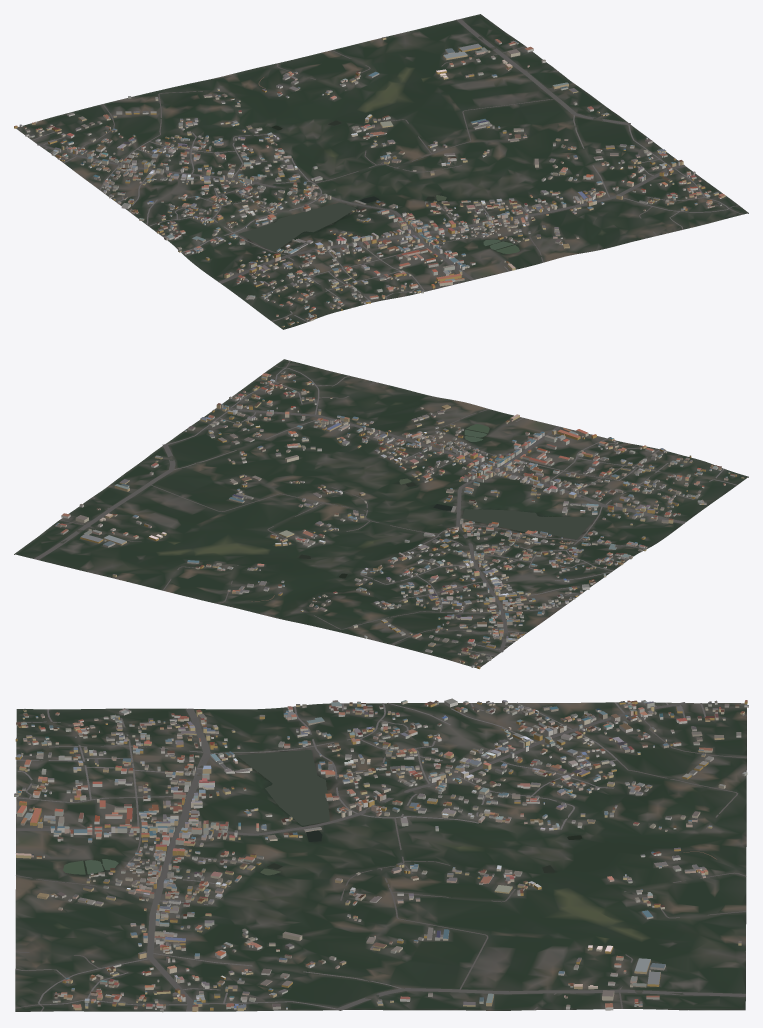
3 views of the same model, one above another, from view 1: azimuth 30°, elevation 25°; view 2: azimuth 150°, elevation 25°; view 3: azimuth 270°, elevation 25° (orthographic). The views are drawn at different scales.
Parts seen in each view (by area): view 1: ground, buildings, roads, water; view 2: ground, buildings, roads, water; view 3: ground, buildings, roads, water.
Part boxes in pixels (bbox=[...]): ground: bbox=[16, 14, 748, 329]; buildings: bbox=[14, 37, 725, 327]; roads: bbox=[32, 19, 742, 321]; water: bbox=[239, 121, 519, 253]; ground: bbox=[14, 359, 748, 668]; buildings: bbox=[55, 371, 744, 669]; roads: bbox=[34, 360, 736, 656]; water: bbox=[299, 424, 595, 578]; ground: bbox=[15, 702, 746, 1011]; buildings: bbox=[14, 698, 748, 1012]; roads: bbox=[15, 702, 746, 1011]; water: bbox=[63, 750, 582, 875].
Size of the model in its own units: 1410 by 30.31 by 1410.
